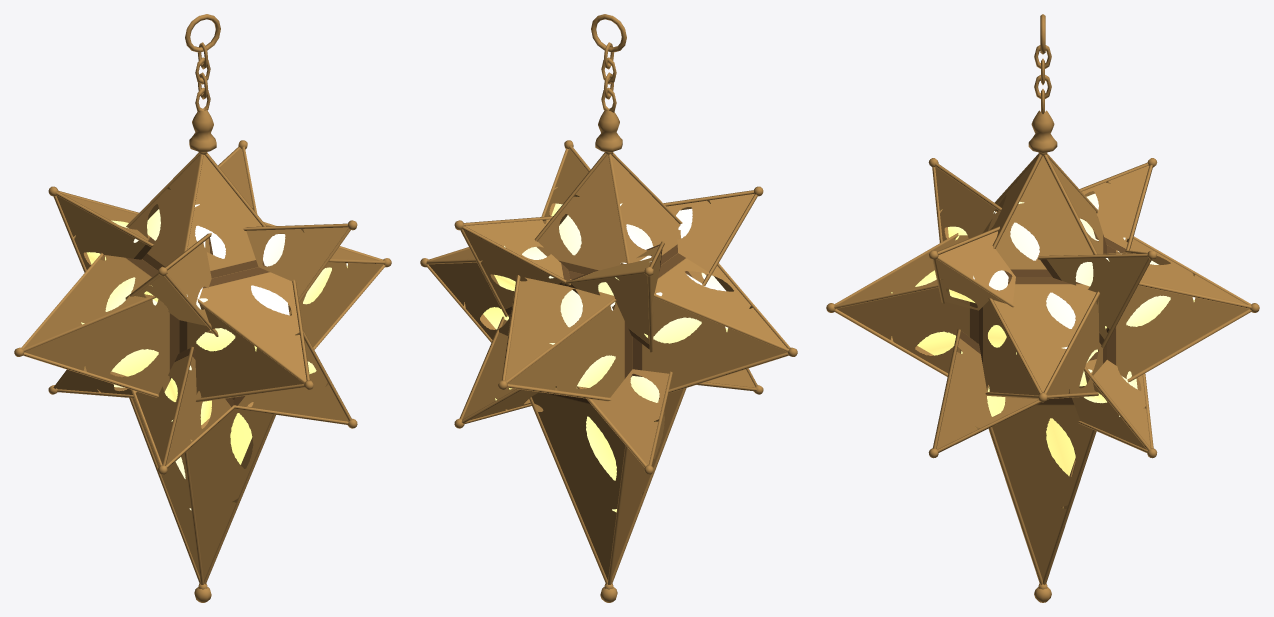
The model's file is prop-lantern-star.glb.
3 renders of one model, left to right at view 1: azimuth 30°, elevation 25°; view 2: azimuth 150°, elevation 25°; view 3: azimuth 270°, elevation 25°, orthographic.
Parts seen in each view (by area): view 1: piece_BrassPierced, piece_Brass, piece_LampGlass; view 2: piece_BrassPierced, piece_Brass, piece_LampGlass; view 3: piece_BrassPierced, piece_Brass, piece_LampGlass.
Part boxes in pixels (box(x1,y1,x2,y2)): piece_BrassPierced: box(24, 148, 383, 580); piece_Brass: box(14, 14, 391, 602); piece_LampGlass: box(81, 204, 347, 510); piece_BrassPierced: box(428, 149, 787, 580); piece_Brass: box(420, 14, 797, 602); piece_LampGlass: box(483, 203, 727, 512); piece_BrassPierced: box(837, 156, 1248, 579); piece_Brass: box(826, 14, 1259, 602); piece_LampGlass: box(891, 193, 1195, 476).
Size of the model in its own units: 0.338 by 0.5042 by 0.338.
Materials: 3 (1 with a texture image).
